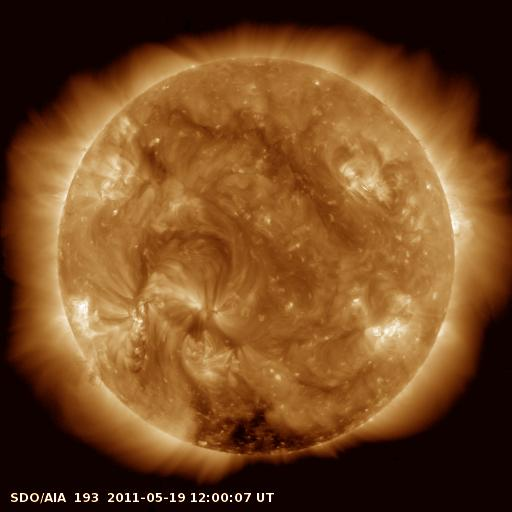coronal_hole: (188, 400, 354, 457)
